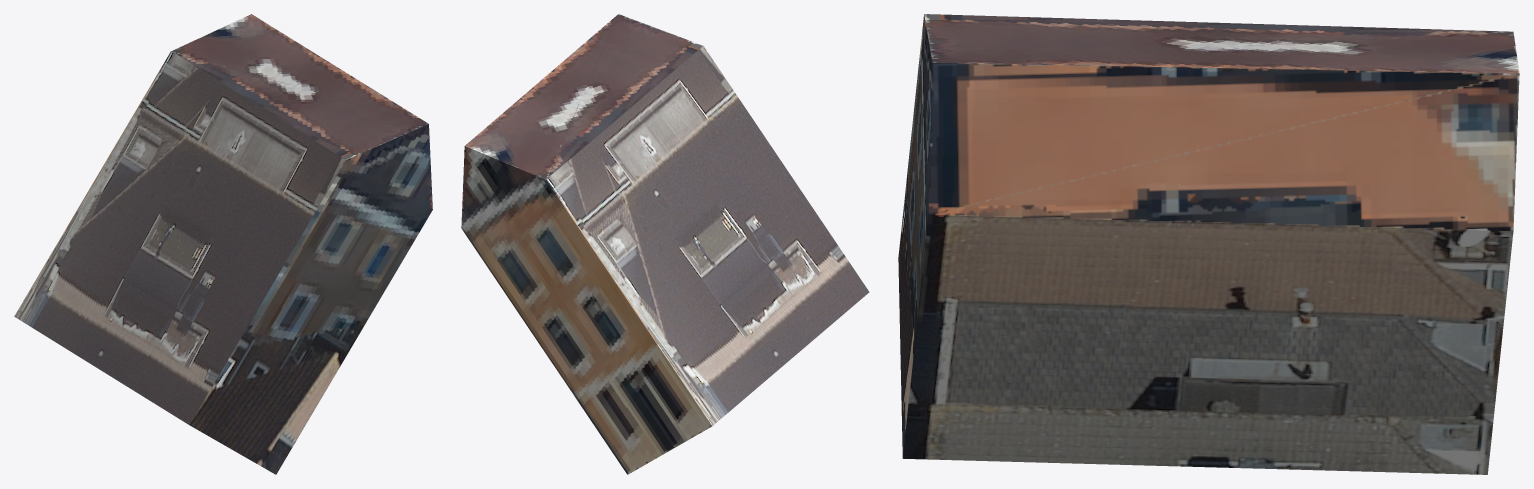
3 renders of one model, left to right at view 1: azimuth 30°, elevation 25°; view 2: azimuth 150°, elevation 25°; view 3: azimuth 270°, elevation 25°, orthographic. The views are drawn at different scales.
Parts seen in each view (by area): view 1: BAG_0599100000688734 (×2); view 2: BAG_0599100000688734 (×3); view 3: BAG_0599100000688734 (×2).
Part boxes in pixels (<box>): BAG_0599100000688734 (×2): <box>14,14,432,474</box>; BAG_0599100000688734 (×3): <box>461,14,869,474</box>; BAG_0599100000688734 (×2): <box>898,14,1519,474</box>.
Bounding box in the file's own units: 10.79 × 12.68 × 12.85.
Materials: 1 (1 with a texture image).
